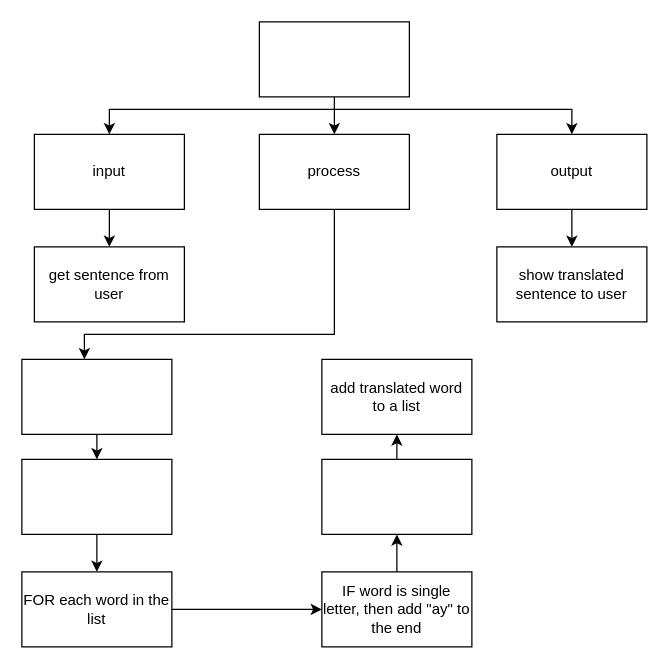
Some shapes in this 669 by 669 pixel diagram are drawn without their labels. Each missing label, with the centre of its shape:
initialize empty list to store translate words: [96,496]
join list of translated words into a single string: [396,496]
program that translates anything to pig latin: [333,59]
split sentence into a list of words: [96,396]
